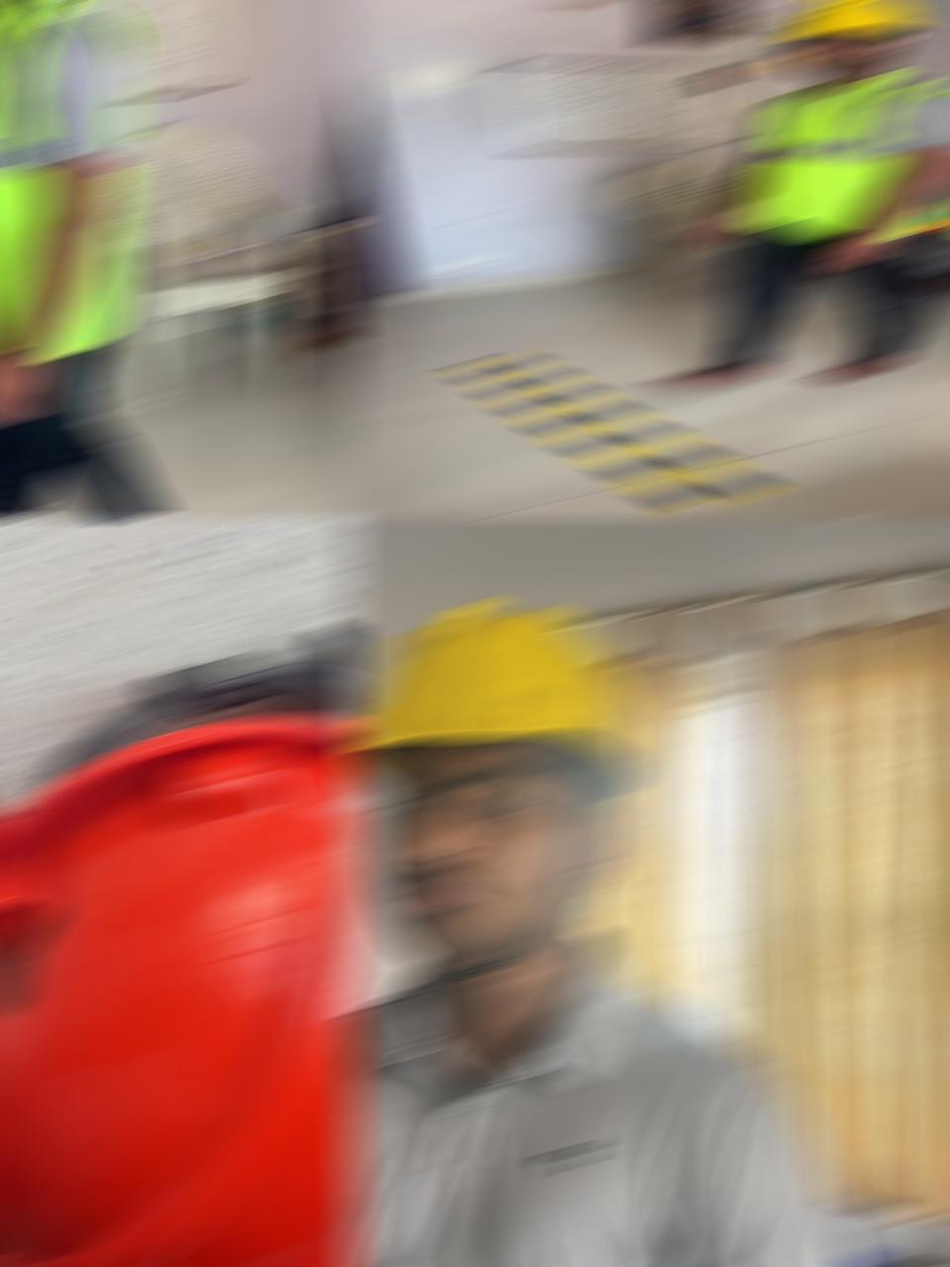BorderLine: (444, 356, 783, 507)
Helmet: (0, 623, 359, 1265), (343, 603, 655, 805), (774, 2, 925, 37)
No_Vest: (343, 936, 890, 1265)
Person: (343, 602, 893, 1265), (643, 2, 950, 383), (0, 2, 187, 517)
Vest: (0, 2, 142, 355), (736, 73, 950, 235)
